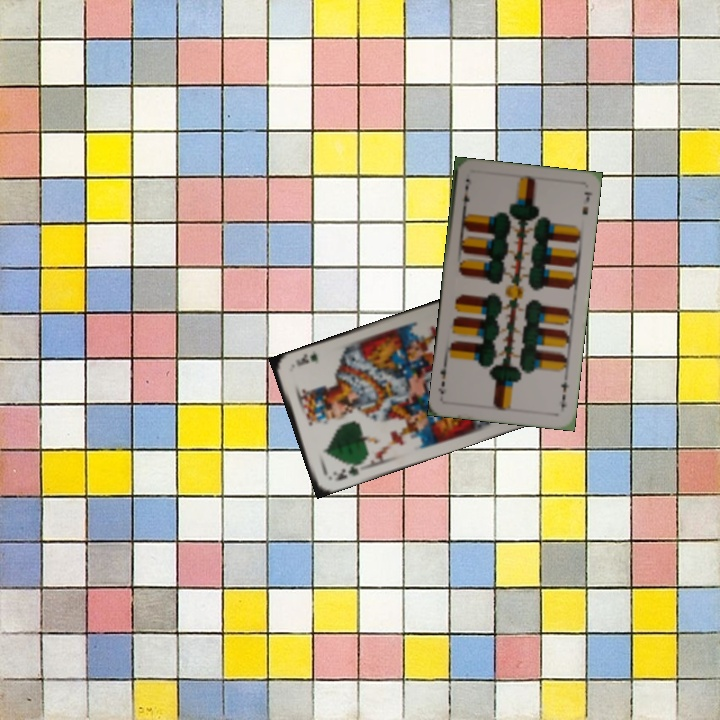E7: (556, 378, 572, 410), (458, 180, 472, 213)
GK: (328, 458, 364, 483)
